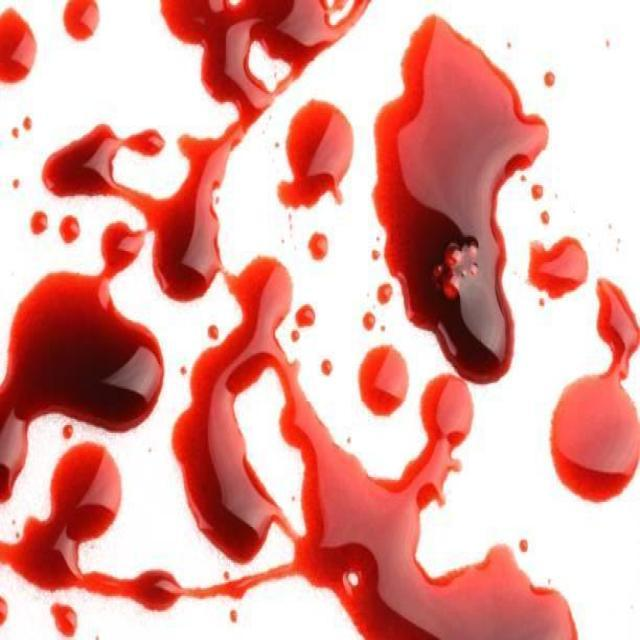flood: (378, 14, 544, 392), (9, 274, 162, 438), (180, 368, 282, 569)
